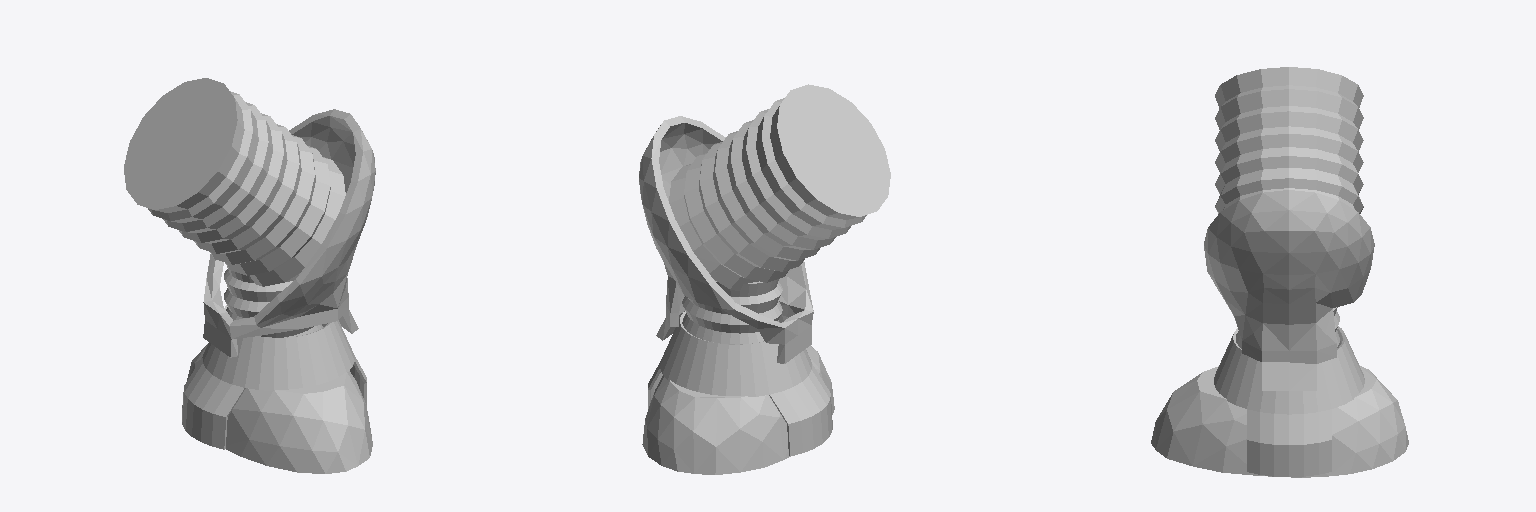
File: left_leg.obj
The picture shows the model from 3 angles: view 1: azimuth 30°, elevation 25°; view 2: azimuth 150°, elevation 25°; view 3: azimuth 270°, elevation 25°; orthographic projection.
Visible parts, largest first — view 1: Left_Leg; view 2: Left_Leg; view 3: Left_Leg.
Boxes of the visible parts, box(x1,y1,x2,y2) form: Left_Leg: box(124, 78, 375, 473); Left_Leg: box(639, 84, 890, 474); Left_Leg: box(1151, 67, 1408, 477).
Size of the model in its own units: 0.297 by 0.4376 by 0.2912.